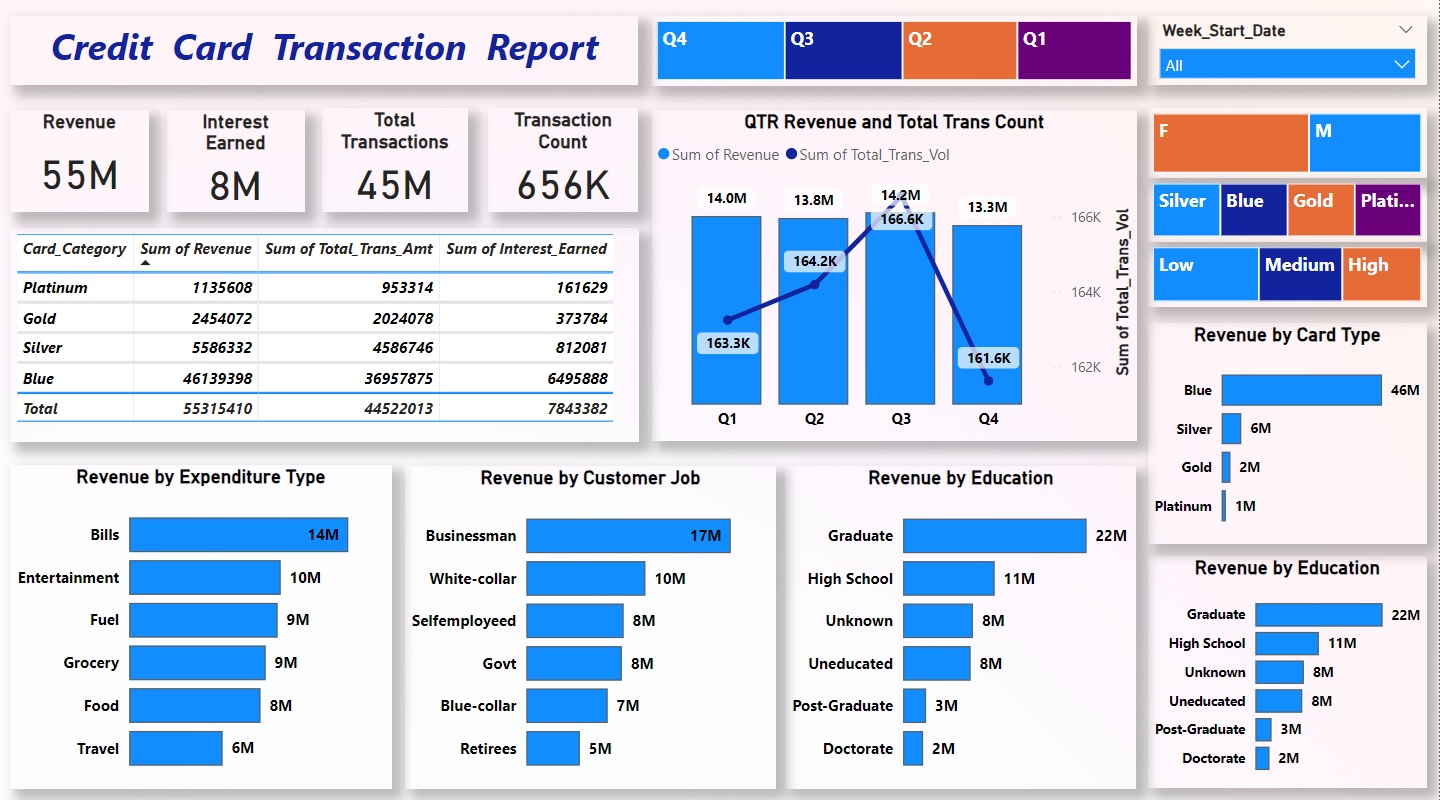

The dashboard page shown, as its layout file describes it:
{"tool":"powerbi","page":{"name":"CC Transaction","canvas":[1280,720],"ordinal":1},"visuals":[{"type":"textbox","box":[9.7,16.9,558.6,61.5],"z":0},{"type":"lineStackedColumnComboChart","title":"QTR Revenue and Total Trans Count","fields":{"Category":["credit_card.Qtr"],"Y":["Sum(credit_card.Revenue)"],"Y2":["Sum(credit_card.Total_Trans_Vol)"]},"box":[579.8,100.1,431.6,294.1],"z":1000},{"type":"barChart","title":"Revenue by Expenditure Type","fields":{"Y":["Sum(credit_card.Revenue)"],"Category":["credit_card.Exp Type"]},"box":[9.8,415.3,339.1,288.7],"z":2000},{"type":"barChart","title":"Revenue by Education","fields":{"Y":["Sum(credit_card.Revenue)"],"Category":["customer.Education_Level"]},"box":[699.1,416.5,312.1,287.5],"z":3000},{"type":"barChart","title":"Revenue by Customer Job","fields":{"Y":["Sum(credit_card.Revenue)"],"Category":["customer.Customer_Job"]},"box":[361.2,416.5,329.3,287.5],"z":4000},{"type":"barChart","title":"Revenue by Education","fields":{"Y":["Sum(credit_card.Revenue)"],"Category":["customer.Education_Level"]},"box":[1021,496.4,248.2,206.4],"z":5000},{"type":"barChart","title":"Revenue by Card Type","fields":{"Category":["credit_card.Card_Category"],"Y":["Sum(credit_card.Revenue)"]},"box":[1020.8,290.5,248.2,195.9],"z":6000},{"type":"tableEx","fields":{"Values":["credit_card.Card_Category","Sum(credit_card.Revenue)","Sum(credit_card.Total_Trans_Amt)","Sum(credit_card.Interest_Earned)"]},"box":[9.8,205.2,559,189.2],"z":7000},{"type":"card","title":"Revenue","fields":{"Values":["Sum(credit_card.Revenue)"]},"box":[9.8,99.5,122.9,90.9],"z":8000},{"type":"card","title":"Total Transactions","fields":{"Values":["Sum(credit_card.Total_Trans_Amt)"]},"box":[287.1,98.9,130.3,91.7],"z":9000},{"type":"card","title":"Interest Earned","fields":{"Values":["Sum(credit_card.Interest_Earned)"]},"box":[148.7,99.5,122.9,90.9],"z":10000},{"type":"card","title":"Transaction Count","fields":{"Values":["Sum(credit_card.Total_Trans_Vol)"]},"box":[434.3,98.9,133.9,91.7],"z":11000},{"type":"slicer","fields":{"Values":["credit_card.Week_Start_Date"]},"box":[1020.8,16.7,248.2,61.2],"z":12000},{"type":"treemap","fields":{"Group":["credit_card.Qtr"],"Values":["Avg(credit_card.Client_Num)"]},"box":[580,16.7,431.9,62.3],"z":13000},{"type":"treemap","fields":{"Group":["customer.Gender"],"Values":["CountNonNull(credit_card.Client_Num)"]},"box":[1020.8,99.1,248.2,62.3],"z":14000},{"type":"treemap","fields":{"Group":["credit_card.Card_Category"],"Values":["Avg(credit_card.Client_Num)"]},"box":[1020.8,161.4,248.2,56.8],"z":15000},{"type":"treemap","fields":{"Group":["customer.IncomeGroup"],"Values":["CountNonNull(credit_card.Client_Num)"]},"box":[1020.8,218.2,248.2,57.9],"z":16000}]}

Visuals, with their boxes in screenshot pixels (x1, y1, x2, y2), scaled from the page's 1280x720 canvas onto the 1440x800 screenshot:
textbox: rect(11, 19, 639, 87)
"QTR Revenue and Total Trans Count" lineStackedColumnComboChart: rect(652, 111, 1138, 438)
"Revenue by Expenditure Type" barChart: rect(11, 461, 393, 782)
"Revenue by Education" barChart: rect(786, 463, 1138, 782)
"Revenue by Customer Job" barChart: rect(406, 463, 777, 782)
"Revenue by Education" barChart: rect(1149, 552, 1428, 781)
"Revenue by Card Type" barChart: rect(1148, 323, 1428, 540)
tableEx - credit_card.Card_Category x Sum(credit_card.Revenue): rect(11, 228, 640, 438)
"Revenue" card: rect(11, 111, 149, 212)
"Total Transactions" card: rect(323, 110, 470, 212)
"Interest Earned" card: rect(167, 111, 306, 212)
"Transaction Count" card: rect(489, 110, 639, 212)
slicer - credit_card.Week_Start_Date: rect(1148, 19, 1428, 87)
treemap - credit_card.Qtr x Avg(credit_card.Client_Num): rect(652, 19, 1138, 88)
treemap - customer.Gender x CountNonNull(credit_card.Client_Num): rect(1148, 110, 1428, 179)
treemap - credit_card.Card_Category x Avg(credit_card.Client_Num): rect(1148, 179, 1428, 242)
treemap - customer.IncomeGroup x CountNonNull(credit_card.Client_Num): rect(1148, 242, 1428, 307)
